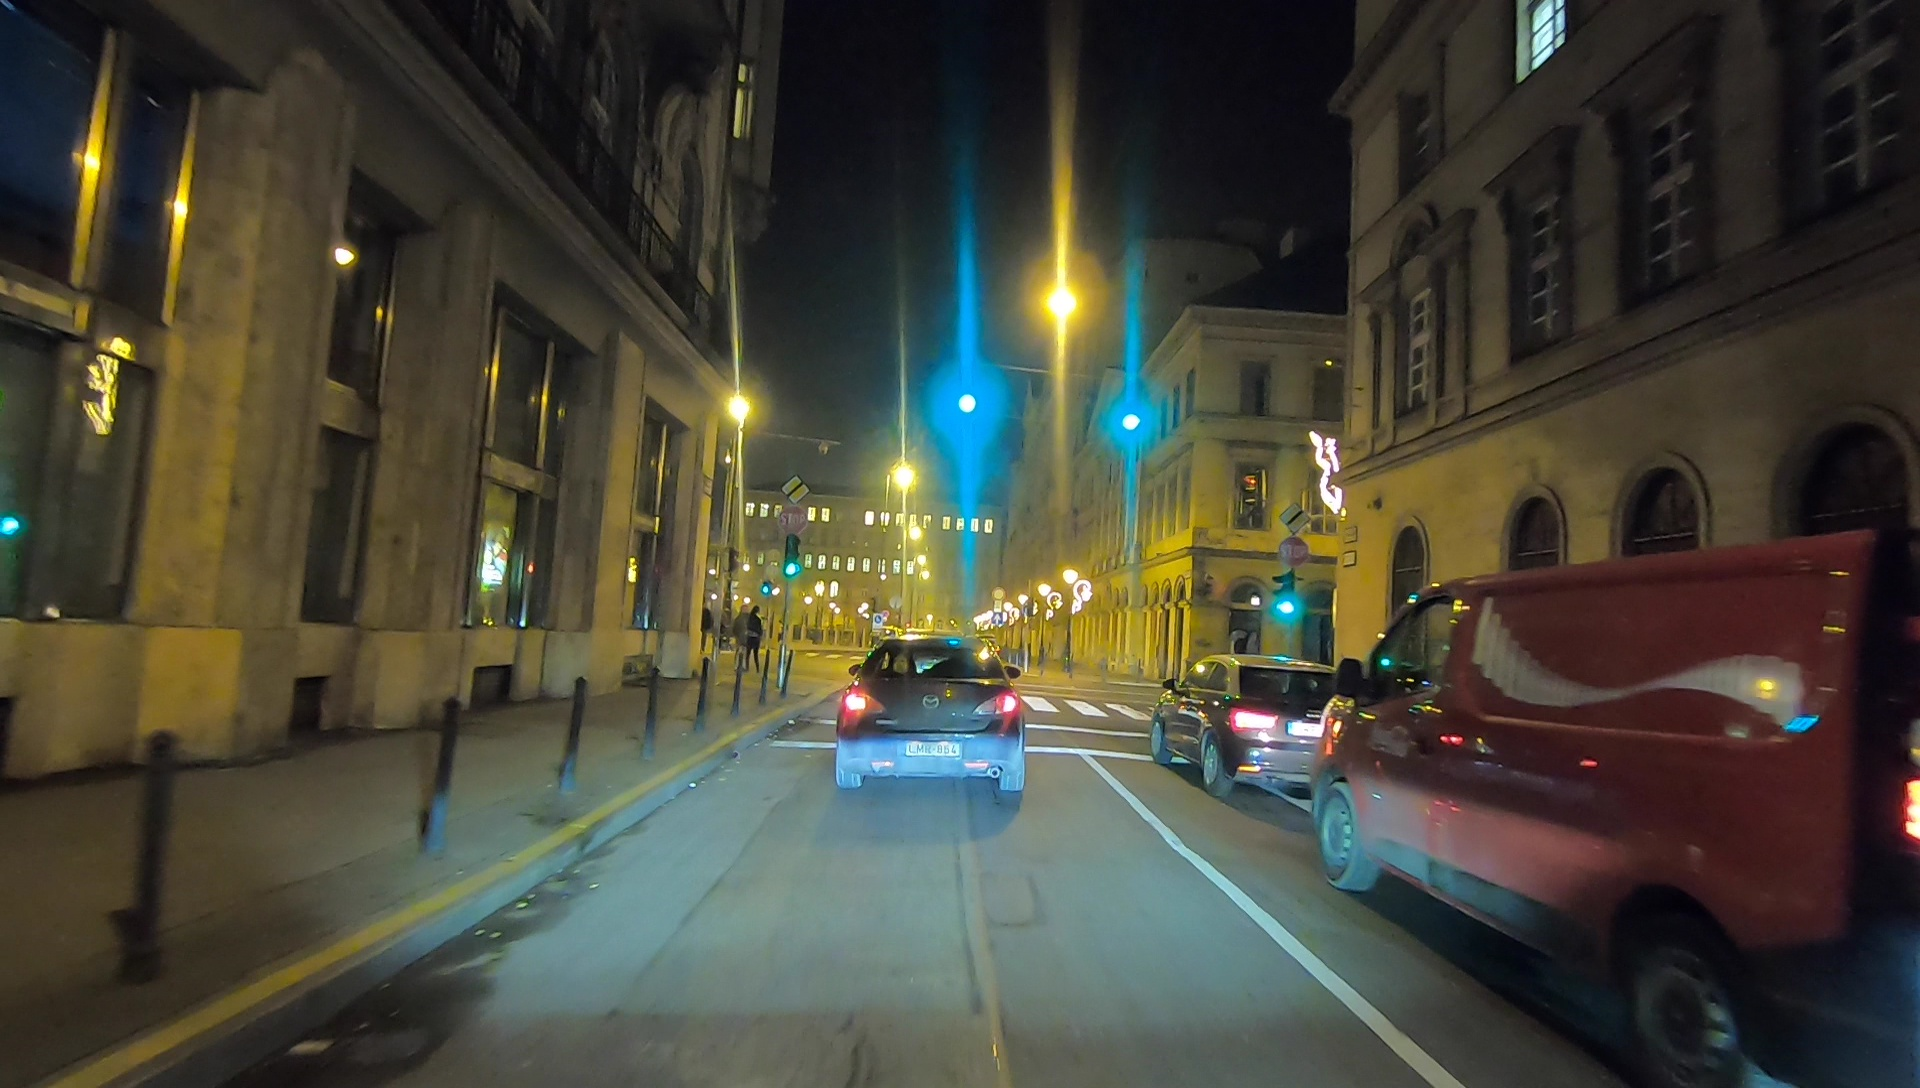person: (728, 602, 764, 678)
